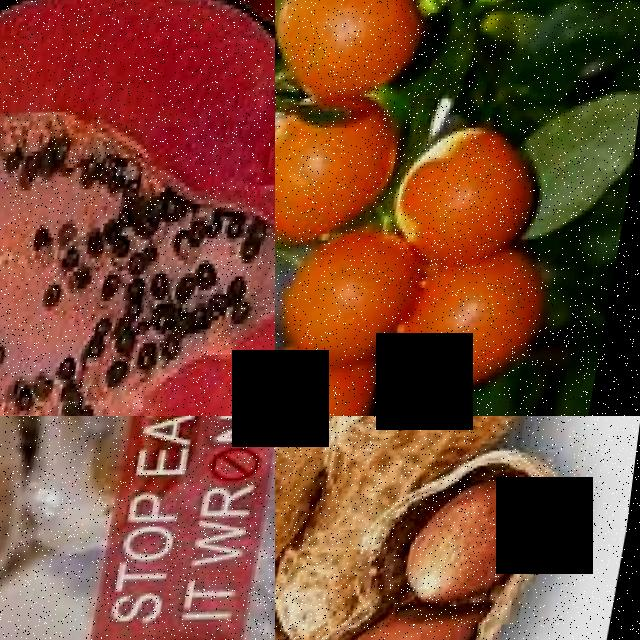orange: (396, 127, 563, 270), (407, 254, 566, 403), (275, 97, 415, 255), (279, 249, 436, 381), (275, 0, 444, 111), (275, 362, 395, 416)
pawpaw: (0, 0, 275, 416)
peanuts: (400, 487, 542, 615), (327, 416, 550, 475), (317, 605, 486, 640)
